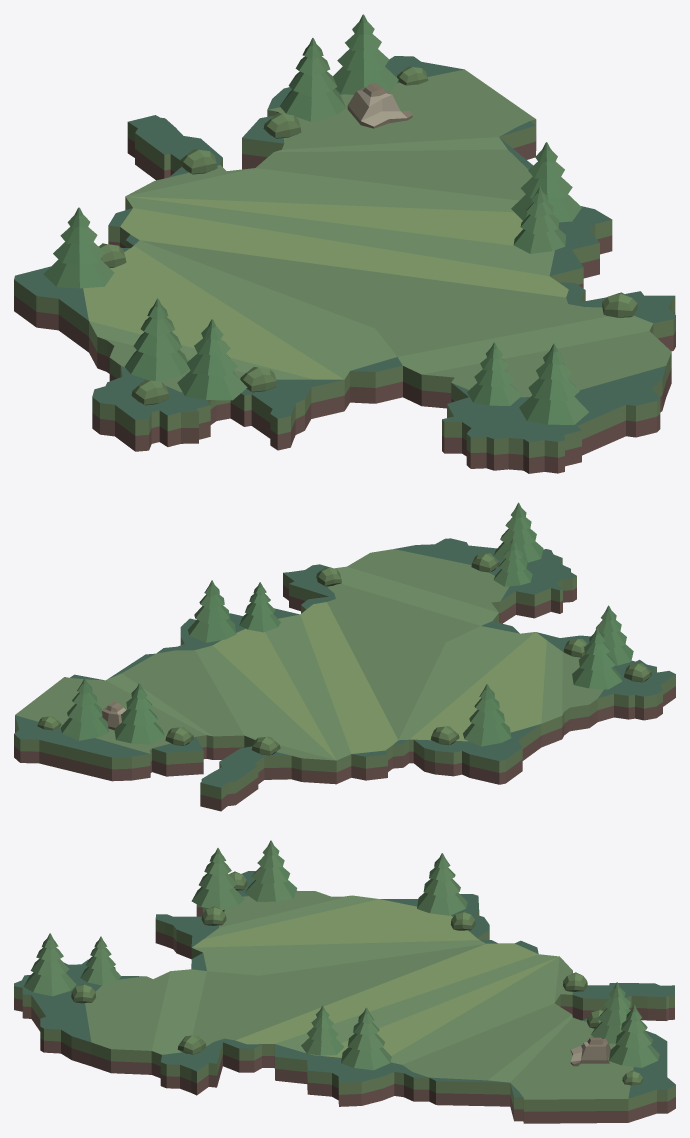
The model's file is olenek.gltf.
The picture shows the model from 3 angles, top to bottom: view 1: azimuth 30°, elevation 25°; view 2: azimuth 150°, elevation 25°; view 3: azimuth 270°, elevation 25°; orthographic projection. The views are drawn at different scales.
Visible parts, largest first — view 1: оленек; view 2: оленек; view 3: оленек.
Boxes of the visible parts, x1,y1,x2,y2 form: оленек: (14, 14, 675, 473); оленек: (14, 502, 675, 811); оленек: (14, 840, 675, 1123).
Size of the model in its own units: 3.19 by 0.5325 by 3.9.
